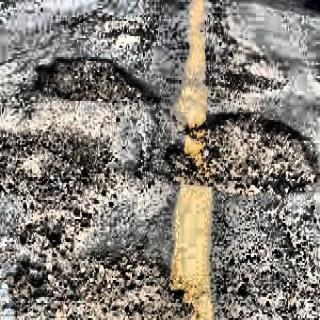pothole: (3, 234, 176, 320), (163, 110, 320, 196), (0, 117, 107, 221), (34, 48, 161, 120)
